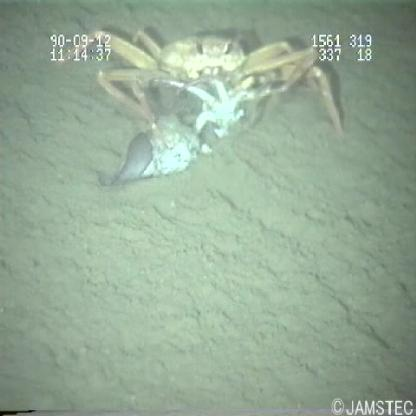Bio: (50, 22, 350, 200)
